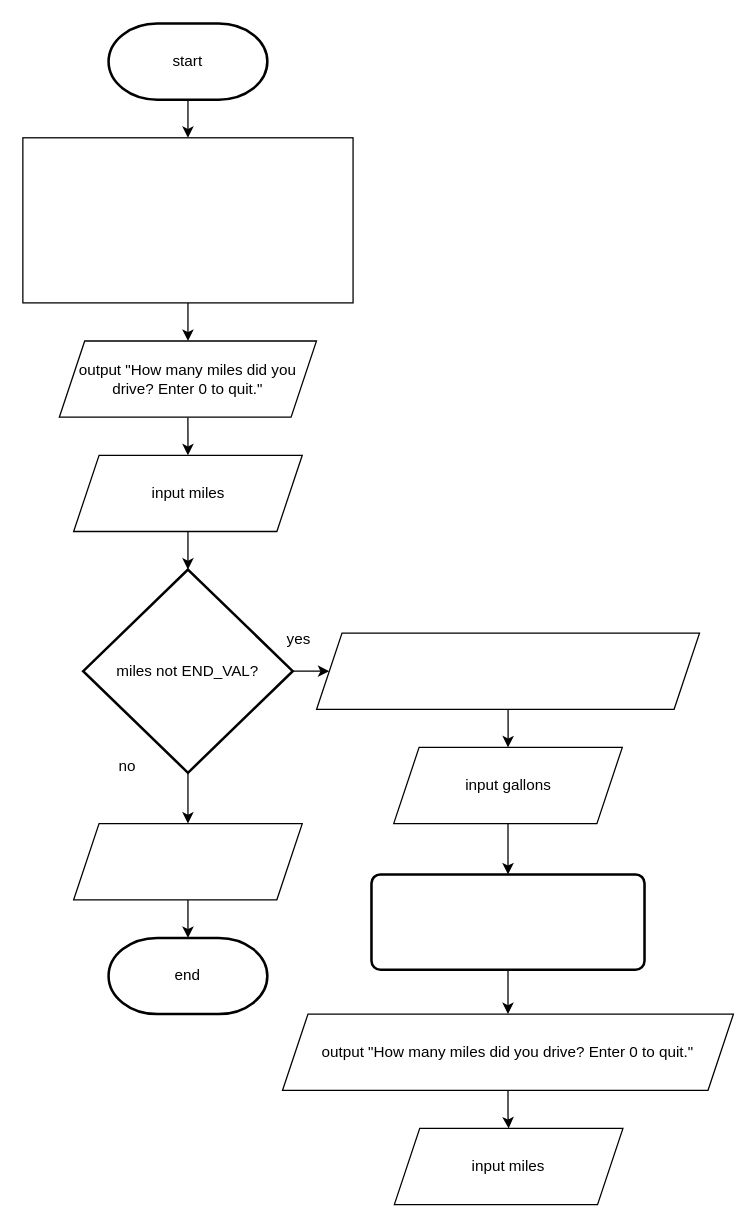
Some shapes in this 756 by 1227 pixel diagram are drawn without their labels. Here are the shapes that lost their labels. From the top down, the centre of each, then its label:
(187,220): Declarations num miles num gallons num mpg num END_VAL = 0
(507,670): output "How many galloons of gas did you use?"
(187,861): output "End of program"
(507,921): mpg=miles/gallons
